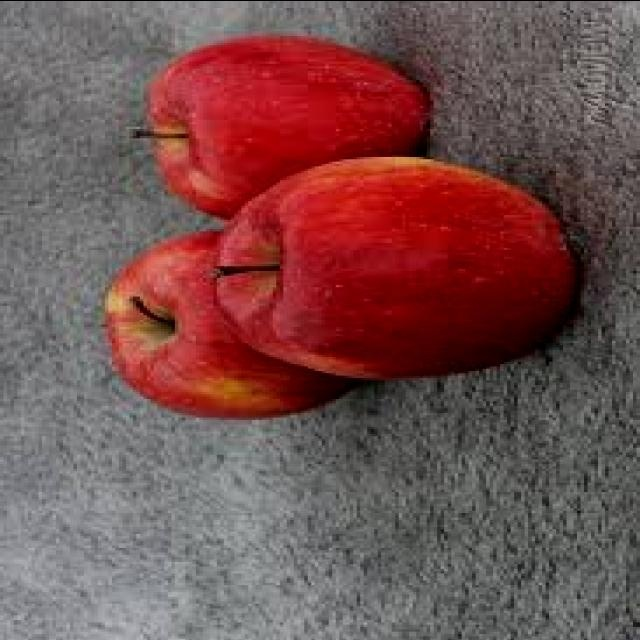agrume: (190, 148, 570, 373), (83, 206, 429, 430), (65, 14, 439, 218)
